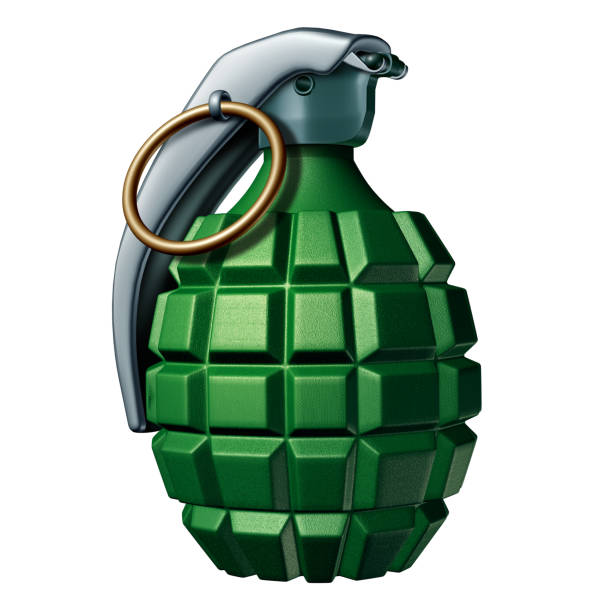e1: (102, 24, 489, 584)
